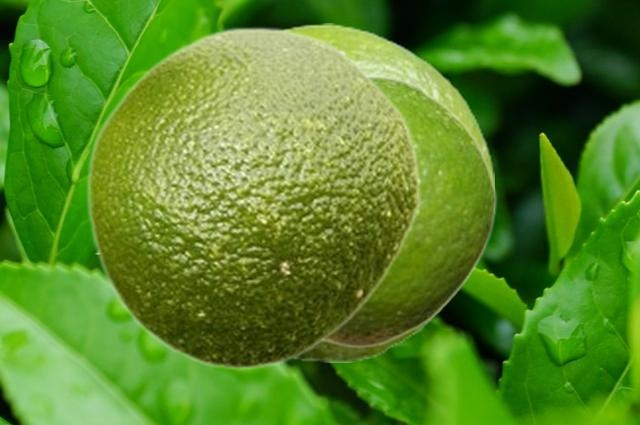calamansi: (85, 25, 420, 371), (278, 23, 493, 361), (324, 74, 496, 348)
